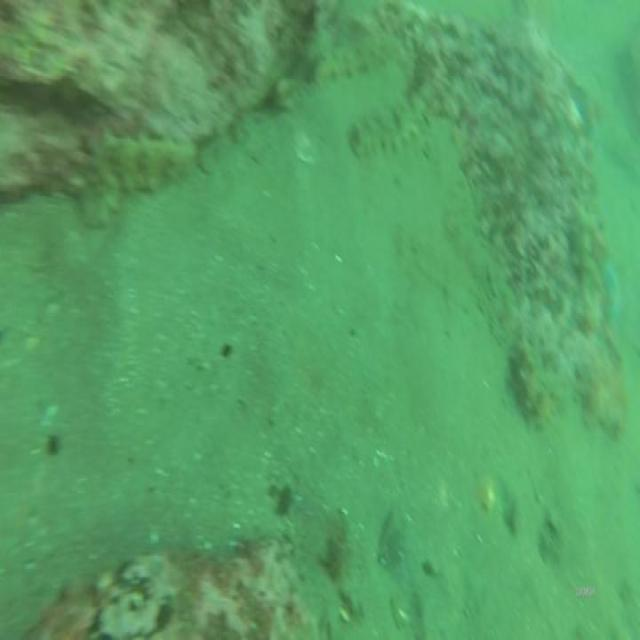holothurian: (72, 128, 199, 204), (352, 79, 437, 156), (311, 33, 397, 87)
